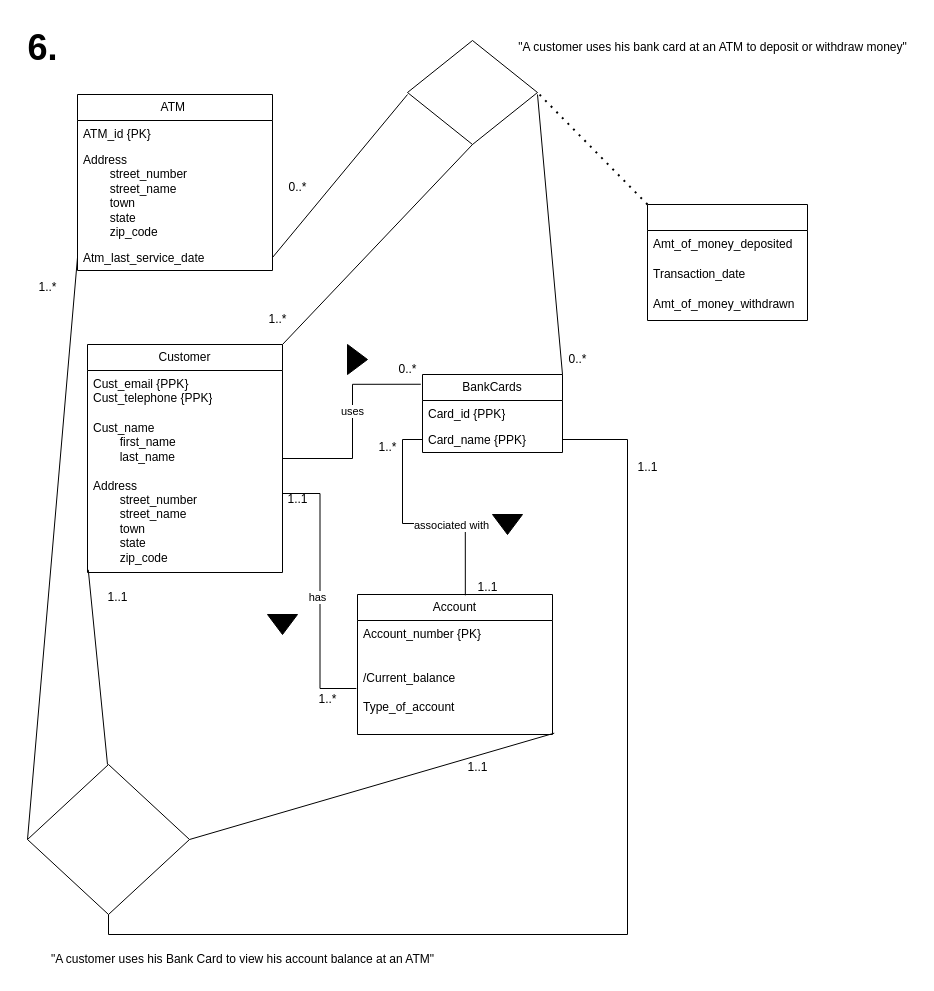
Image size: 934x991. Some labels were removed from this diagram. The shapes that lost their labels are listed below. From the top down, each one's centre as x and y in pixels, then its label:
At point (472, 92): "Transactions".
At point (108, 839): "View balance".
